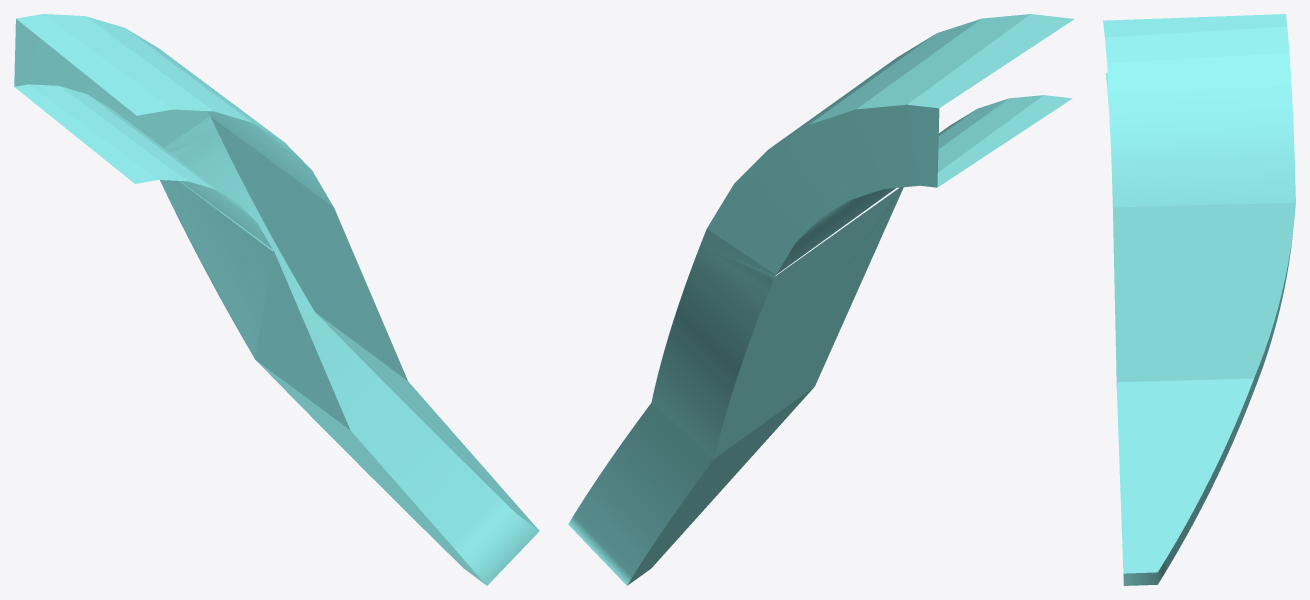
Rendered from original-16.obj.
The picture shows the model from 3 angles, left to right: view 1: azimuth 30°, elevation 25°; view 2: azimuth 150°, elevation 25°; view 3: azimuth 270°, elevation 25°; orthographic projection. The views are drawn at different scales.
Parts seen in each view (by area): view 1: Group12/mesh103/mesh103-geometry#mesh103-geometry; view 2: Group12/mesh103/mesh103-geometry#mesh103-geometry; view 3: Group12/mesh103/mesh103-geometry#mesh103-geometry.
Boxes of the visible parts, left/top/right/bottom form: Group12/mesh103/mesh103-geometry#mesh103-geometry: left=14, top=14, right=539, bottom=585; Group12/mesh103/mesh103-geometry#mesh103-geometry: left=568, top=14, right=1074, bottom=585; Group12/mesh103/mesh103-geometry#mesh103-geometry: left=1103, top=14, right=1295, bottom=585.
Size of the model in its own units: 0.1421 by 0.1883 by 0.0753.
